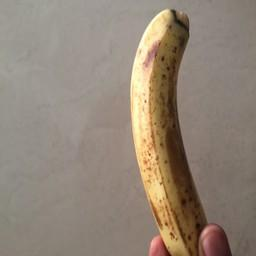Bad_banana: (124, 0, 218, 256)
